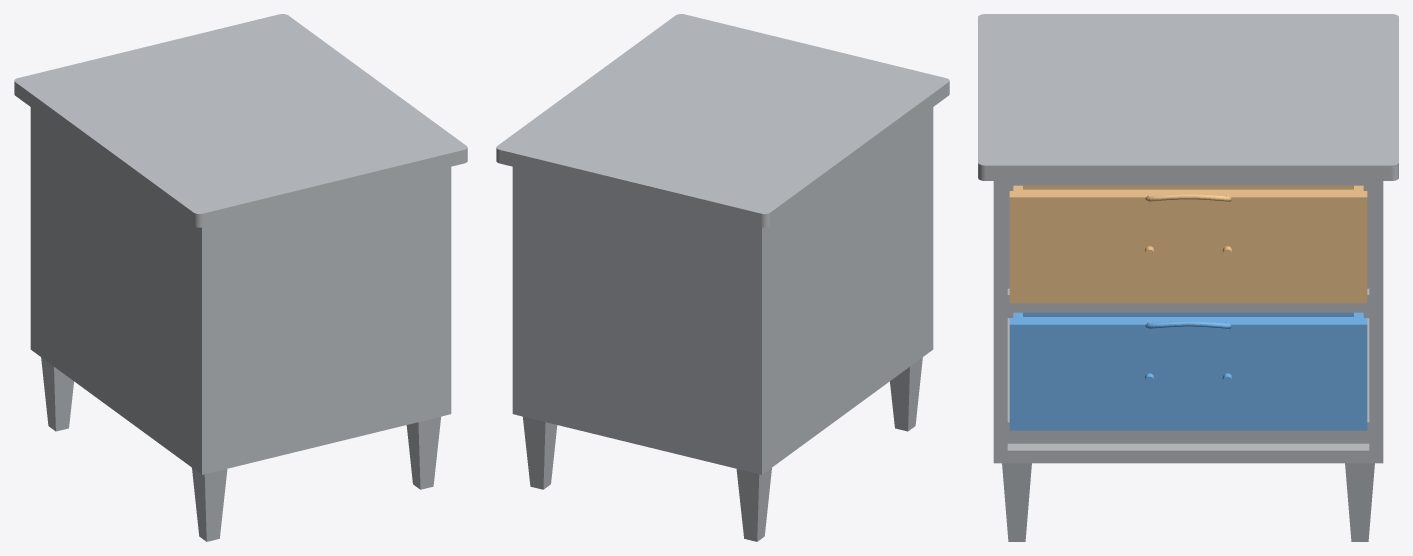
The model's file is parts.glb.
3 renders of one model, left to right at view 1: azimuth 30°, elevation 25°; view 2: azimuth 150°, elevation 25°; view 3: azimuth 270°, elevation 25°, orthographic. The views are drawn at different scales.
Visible parts, largest first — view 1: visual_0_0; view 2: visual_0_0; view 3: visual_0_0, visual_1_0, visual_2_0.
Part boxes in pixels (bbox=[...]): visual_0_0: bbox=[14, 14, 467, 541]; visual_0_0: bbox=[496, 14, 949, 541]; visual_0_0: bbox=[978, 14, 1398, 541]; visual_1_0: bbox=[1009, 312, 1367, 430]; visual_2_0: bbox=[1009, 185, 1367, 303].
Bounding box in the file's own units: 0.4755 × 0.551 × 0.54.
